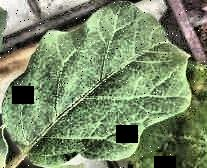HEALTHY: (1, 1, 207, 168)
